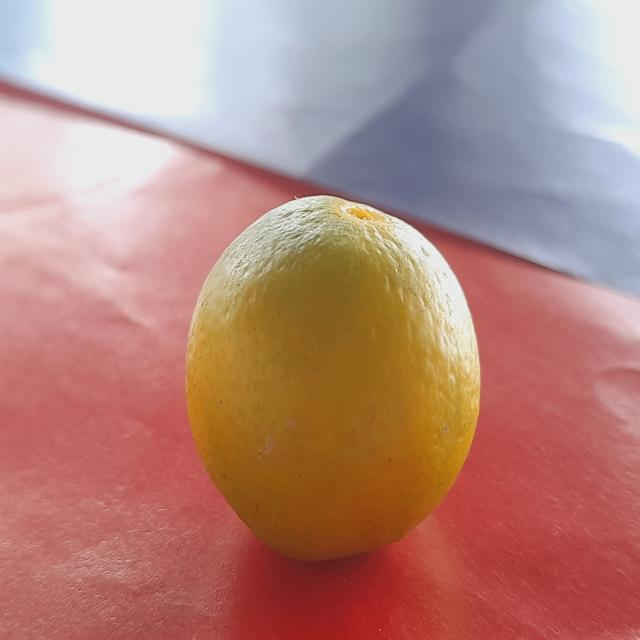greening: (155, 192, 480, 572)
